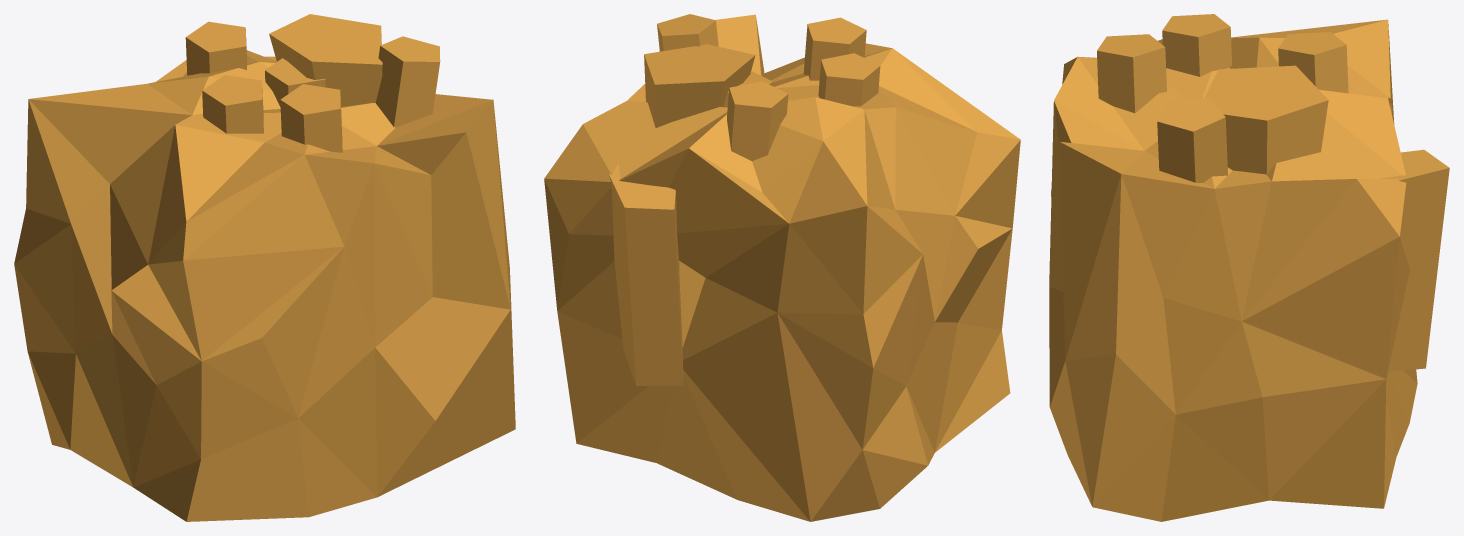
The model's file is scandium.fbx.
3 renders of one model, left to right at view 1: azimuth 30°, elevation 25°; view 2: azimuth 150°, elevation 25°; view 3: azimuth 270°, elevation 25°, orthographic. The views are drawn at different scales.
Visible parts, largest first — view 1: scandium; view 2: scandium; view 3: scandium.
Boxes of the visible parts, x1,y1,x2,y2 form: scandium: (14,14,515,521); scandium: (544,14,1020,521); scandium: (1049,14,1449,521).
Size of the model in its own units: 0.3726 by 0.3802 by 0.345.
